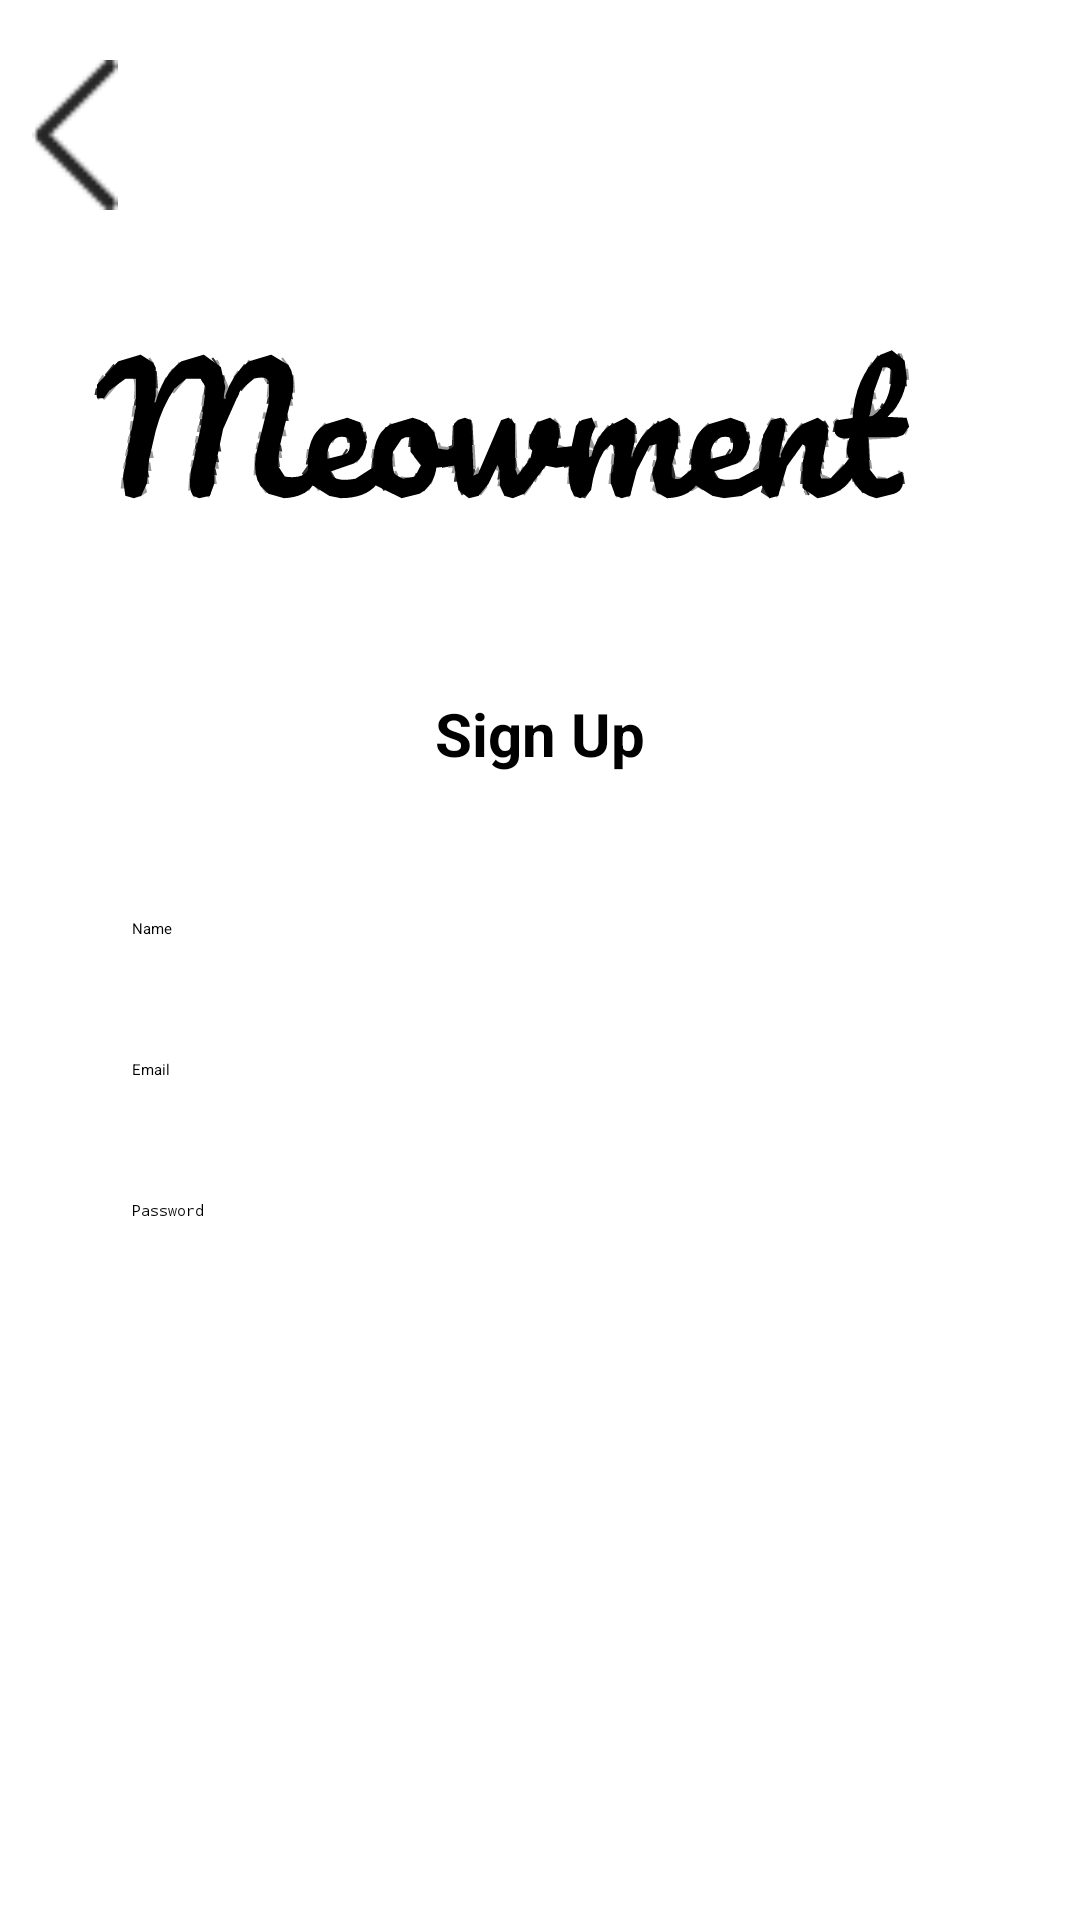

Icon bounding boxes for this 1080w x 1920h phone screenshot, format (x1, y1, x2, y2):
back: (34, 60, 118, 210)
